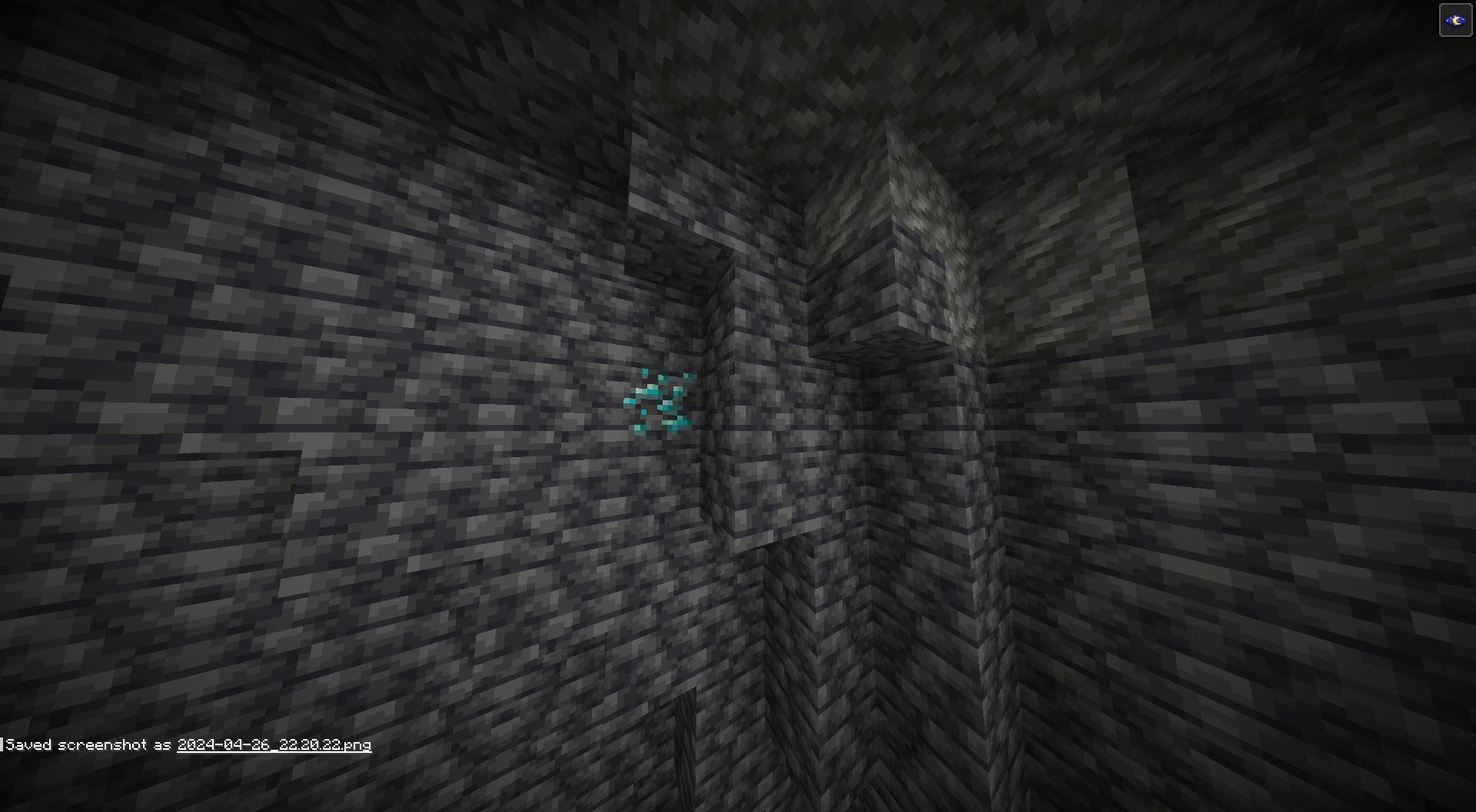diamond ore: (620, 364, 693, 437)
